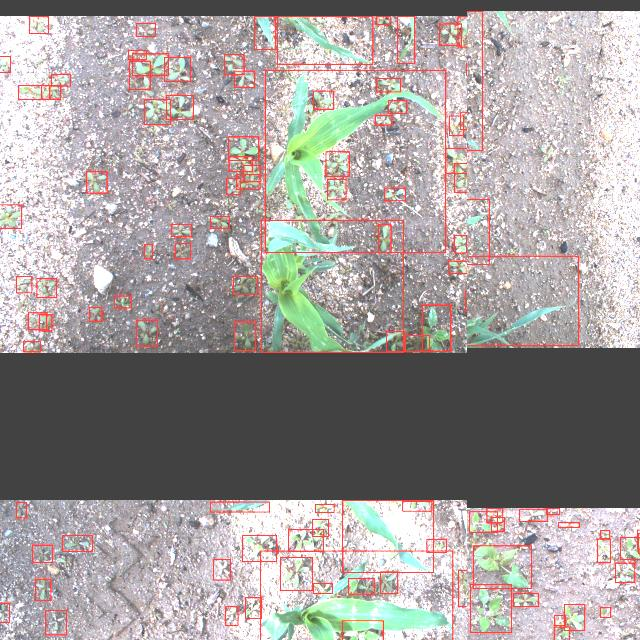crop: (264, 70, 446, 252), (261, 220, 403, 352), (261, 549, 453, 640), (467, 255, 578, 345), (342, 499, 433, 571), (277, 15, 373, 63), (473, 544, 531, 588), (398, 15, 414, 62), (254, 16, 276, 48), (210, 501, 270, 511)
weed: (471, 584, 512, 632), (422, 305, 451, 351), (280, 556, 312, 590), (242, 535, 276, 561), (342, 619, 383, 640), (132, 53, 168, 75), (288, 529, 324, 551), (228, 136, 258, 160), (144, 98, 170, 124), (166, 94, 194, 118), (234, 322, 256, 351), (164, 56, 190, 80), (326, 150, 348, 176), (136, 320, 158, 346), (130, 60, 150, 88), (470, 511, 498, 531), (445, 148, 467, 172), (564, 603, 584, 629), (18, 84, 50, 100), (0, 204, 21, 228), (439, 22, 461, 44), (62, 534, 92, 550), (46, 610, 66, 634), (619, 537, 640, 559), (233, 276, 257, 294), (328, 178, 347, 200), (348, 577, 374, 593), (37, 278, 57, 298), (87, 172, 107, 192), (224, 54, 244, 74), (615, 562, 635, 582), (380, 571, 398, 593), (405, 335, 429, 351), (454, 162, 467, 191), (213, 558, 230, 580), (313, 90, 333, 108), (386, 331, 404, 351), (33, 544, 53, 562), (246, 596, 262, 618), (378, 224, 390, 252), (228, 156, 252, 170), (376, 77, 400, 91), (514, 592, 538, 606), (520, 508, 548, 520), (458, 569, 467, 606), (28, 312, 46, 330), (237, 174, 260, 188), (235, 70, 255, 86), (36, 578, 50, 600), (30, 15, 48, 32), (402, 500, 432, 510), (312, 518, 328, 536), (598, 538, 610, 562), (136, 22, 156, 36), (449, 115, 463, 135), (426, 538, 446, 552), (458, 15, 467, 46), (41, 84, 60, 98), (384, 188, 406, 200), (16, 276, 32, 292), (244, 165, 260, 181), (448, 260, 467, 273), (171, 224, 191, 236), (210, 216, 230, 228), (225, 606, 238, 624), (51, 73, 70, 85), (38, 314, 52, 330), (226, 178, 240, 194), (554, 626, 570, 640), (487, 508, 503, 522), (388, 100, 406, 112), (115, 296, 132, 308), (454, 235, 466, 252), (176, 244, 190, 258), (0, 602, 9, 622), (314, 583, 332, 593), (90, 307, 102, 321), (492, 516, 504, 530), (128, 50, 146, 59), (376, 114, 392, 124), (0, 55, 10, 71), (24, 341, 40, 351), (316, 503, 334, 511), (16, 502, 26, 516), (554, 615, 566, 625), (460, 111, 467, 128), (144, 244, 152, 258), (376, 15, 390, 23), (601, 607, 611, 617), (558, 522, 580, 526), (546, 507, 560, 513), (600, 530, 610, 538), (637, 528, 640, 547)
